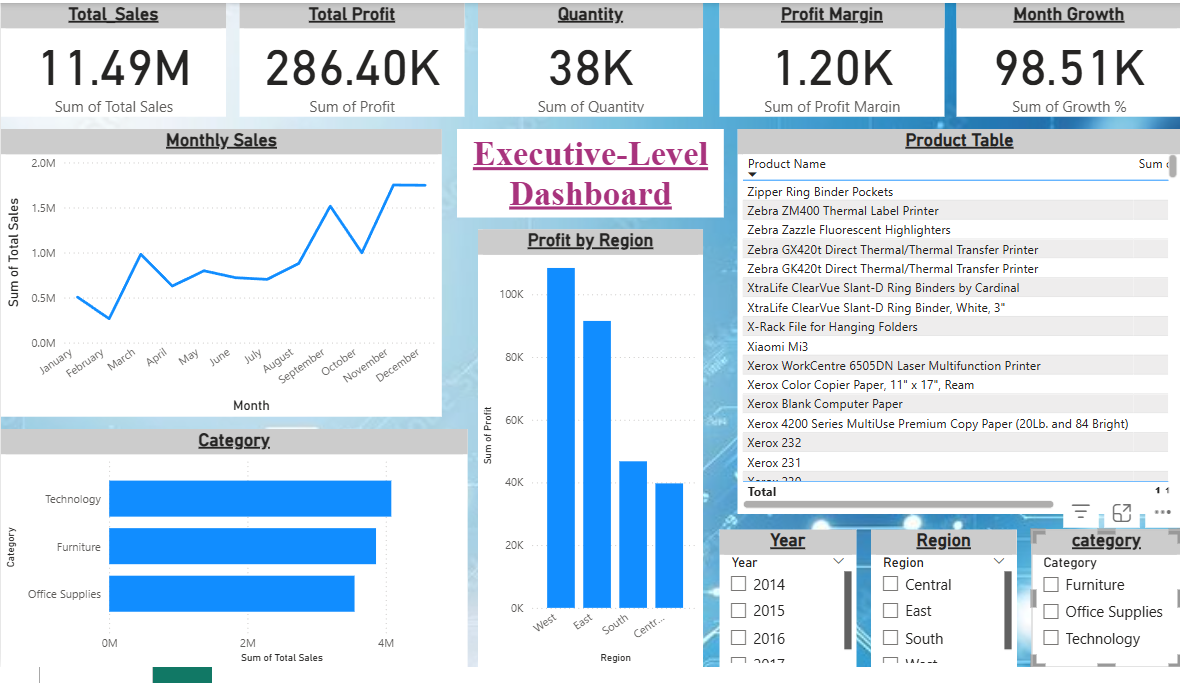

Layout of this report page (visuals, bound fields, positions):
{"tool":"powerbi","page":{"name":"Page 1","canvas":[1280,720],"ordinal":0},"visuals":[{"type":"card","title":"Total_Sales","fields":{"Values":["Sum(sales_data.Total Sales)"]},"box":[0,0,244,123.6],"z":0},{"type":"card","title":"Total Profit","fields":{"Values":["Sum(sales_data.Profit)"]},"box":[258.6,0,244,123.6],"z":1000},{"type":"card","title":"Quantity","fields":{"Values":["Sum(sales_data.Quantity)"]},"box":[517.2,0,244,123.6],"z":2000},{"type":"card","title":"Profit Margin","fields":{"Values":["Sum(sales_data.Profit Margin)"]},"box":[779.1,0,244,123.6],"z":3000},{"type":"card","title":"Month Growth","fields":{"Values":["Sum(sales_data.Growth %)"]},"box":[1036.1,0,244,123.6],"z":4000},{"type":"lineChart","title":"Monthly Sales","fields":{"Category":["DateTable.Month"],"Y":["Sum(sales_data.Total Sales)"]},"box":[0,136.6,478.2,312.3],"z":5000},{"type":"clusteredBarChart","title":" Category","fields":{"Category":["sales_data.Category"],"Y":["Sum(sales_data.Total Sales)"]},"box":[0,461.9,505.9,258.6],"z":6000},{"type":"clusteredColumnChart","title":" Profit by Region","fields":{"Category":["sales_data.Region"],"Y":["Sum(sales_data.Profit)"]},"box":[517.2,245.6,244,475],"z":7000},{"type":"tableEx","title":"Product Table","fields":{"Values":["sales_data.Product Name","Sum(sales_data.Total Sales)","Sum(sales_data.Profit)"]},"box":[798.6,136.6,481.5,416.4],"z":8000},{"type":"slicer","title":"Year","fields":{"Values":["DateTable.Year"]},"box":[779.1,570.9,148,149.6],"z":8001},{"type":"slicer","title":"Region","fields":{"Values":["sales_data.Region"]},"box":[943.4,570.9,157.8,149.6],"z":8002},{"type":"slicer","title":"category","fields":{"Values":["sales_data.Category"]},"box":[1117.4,570.9,162.7,149.6],"z":8003},{"type":"textbox","box":[494.5,136.6,289.5,96],"z":8004}]}

Visuals, with their boxes in screenshot pixels (x1, y1, x2, y2), scaled from the page's 1280x720 canvas onto the 1180x683 screenshot:
"Total_Sales" card: BBox(0, 0, 225, 117)
"Total Profit" card: BBox(238, 0, 463, 117)
"Quantity" card: BBox(477, 0, 702, 117)
"Profit Margin" card: BBox(718, 0, 943, 117)
"Month Growth" card: BBox(955, 0, 1179, 117)
"Monthly Sales" lineChart: BBox(0, 130, 441, 426)
" Category" clusteredBarChart: BBox(0, 438, 466, 682)
" Profit by Region" clusteredColumnChart: BBox(477, 233, 702, 682)
"Product Table" tableEx: BBox(736, 130, 1179, 525)
"Year" slicer: BBox(718, 542, 855, 682)
"Region" slicer: BBox(870, 542, 1015, 682)
"category" slicer: BBox(1030, 542, 1179, 682)
textbox: BBox(456, 130, 723, 221)
